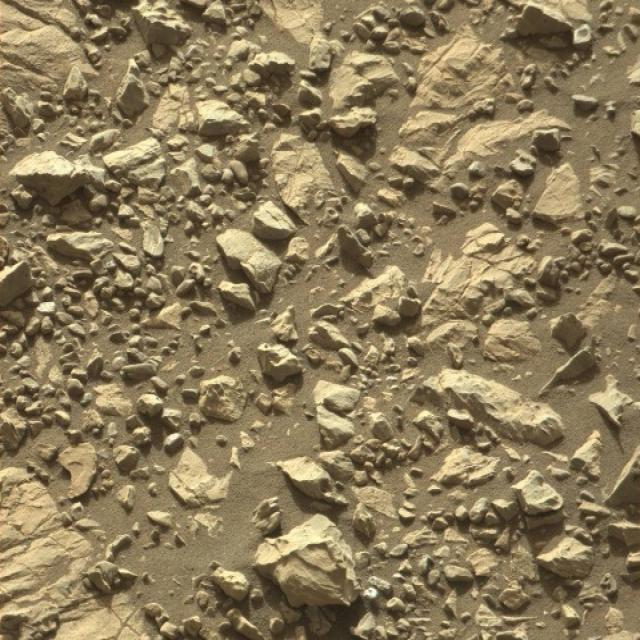mars-rocks: (256, 515, 361, 608), (8, 151, 87, 206), (216, 229, 282, 294)
